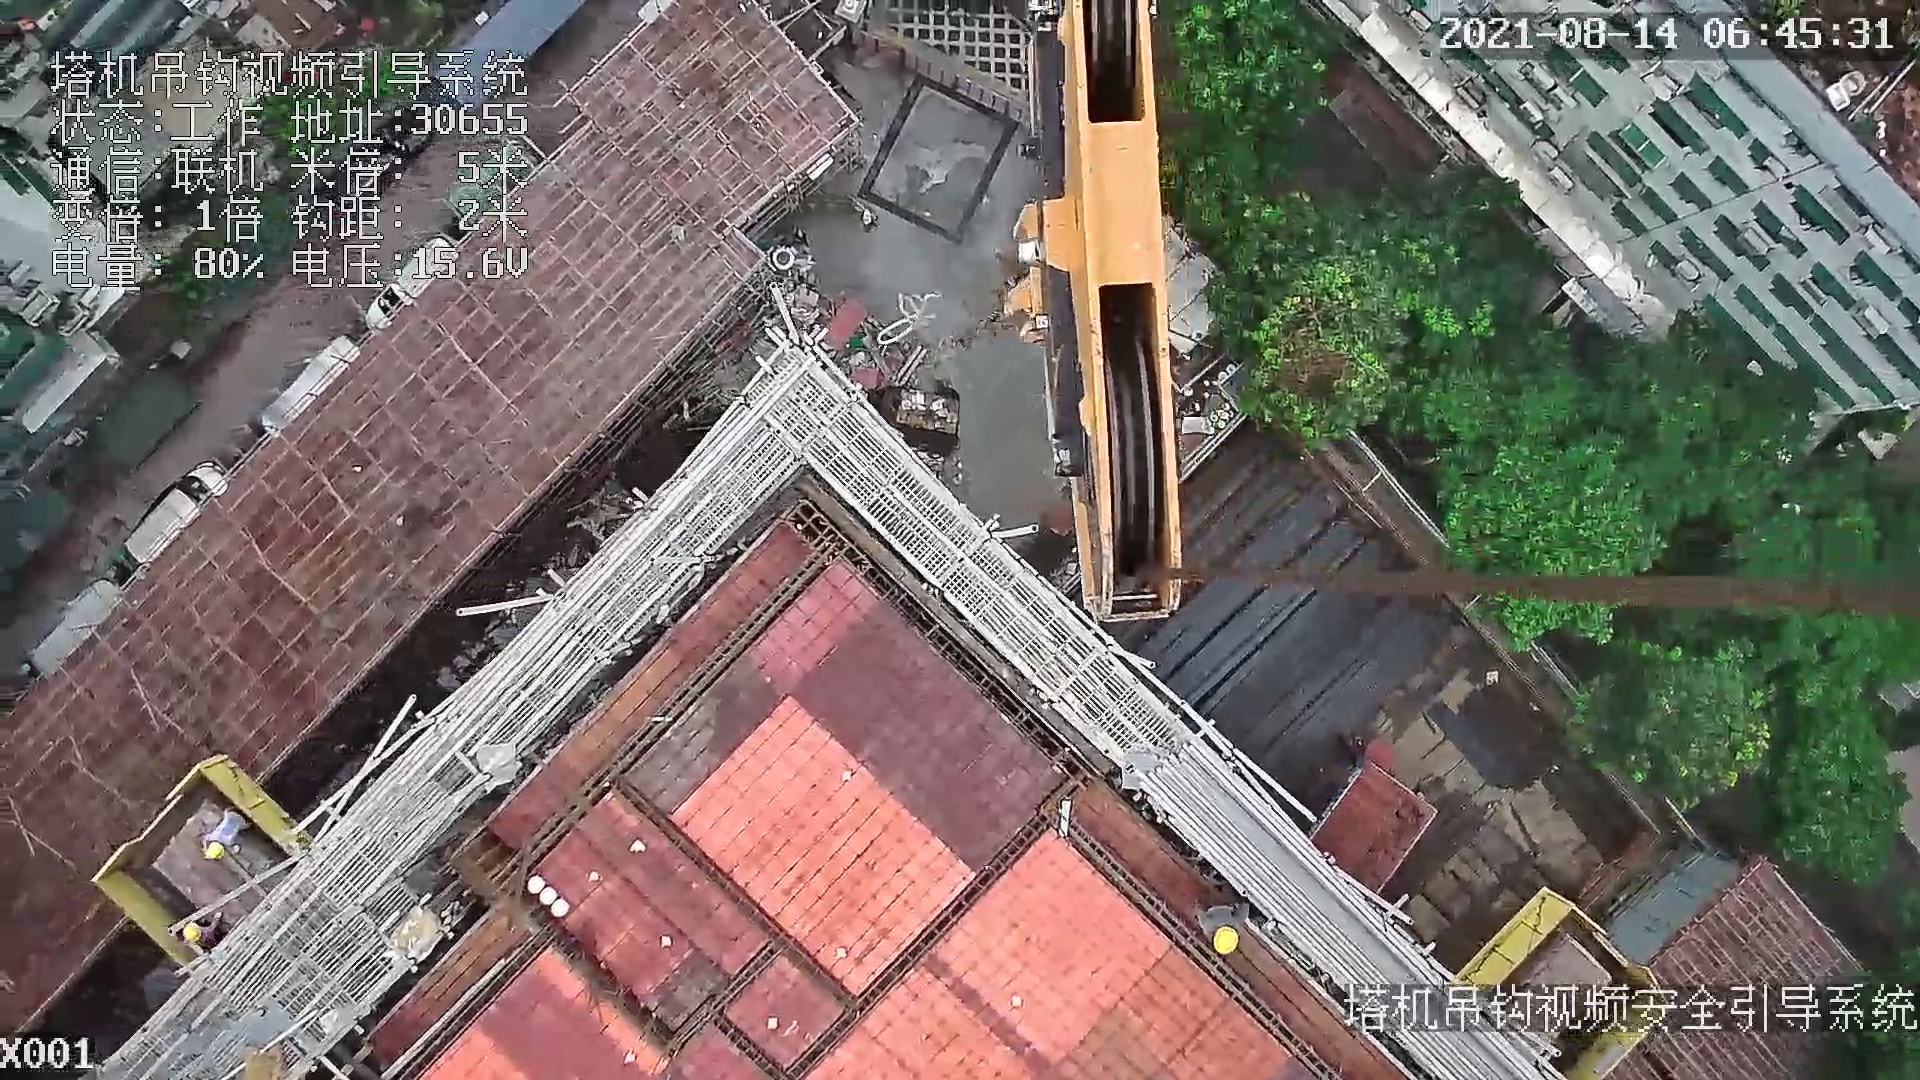helmet: (1212, 927, 1241, 953), (207, 842, 229, 864), (182, 924, 204, 941)
person: (1188, 894, 1254, 951), (200, 809, 251, 863), (177, 912, 227, 949)
